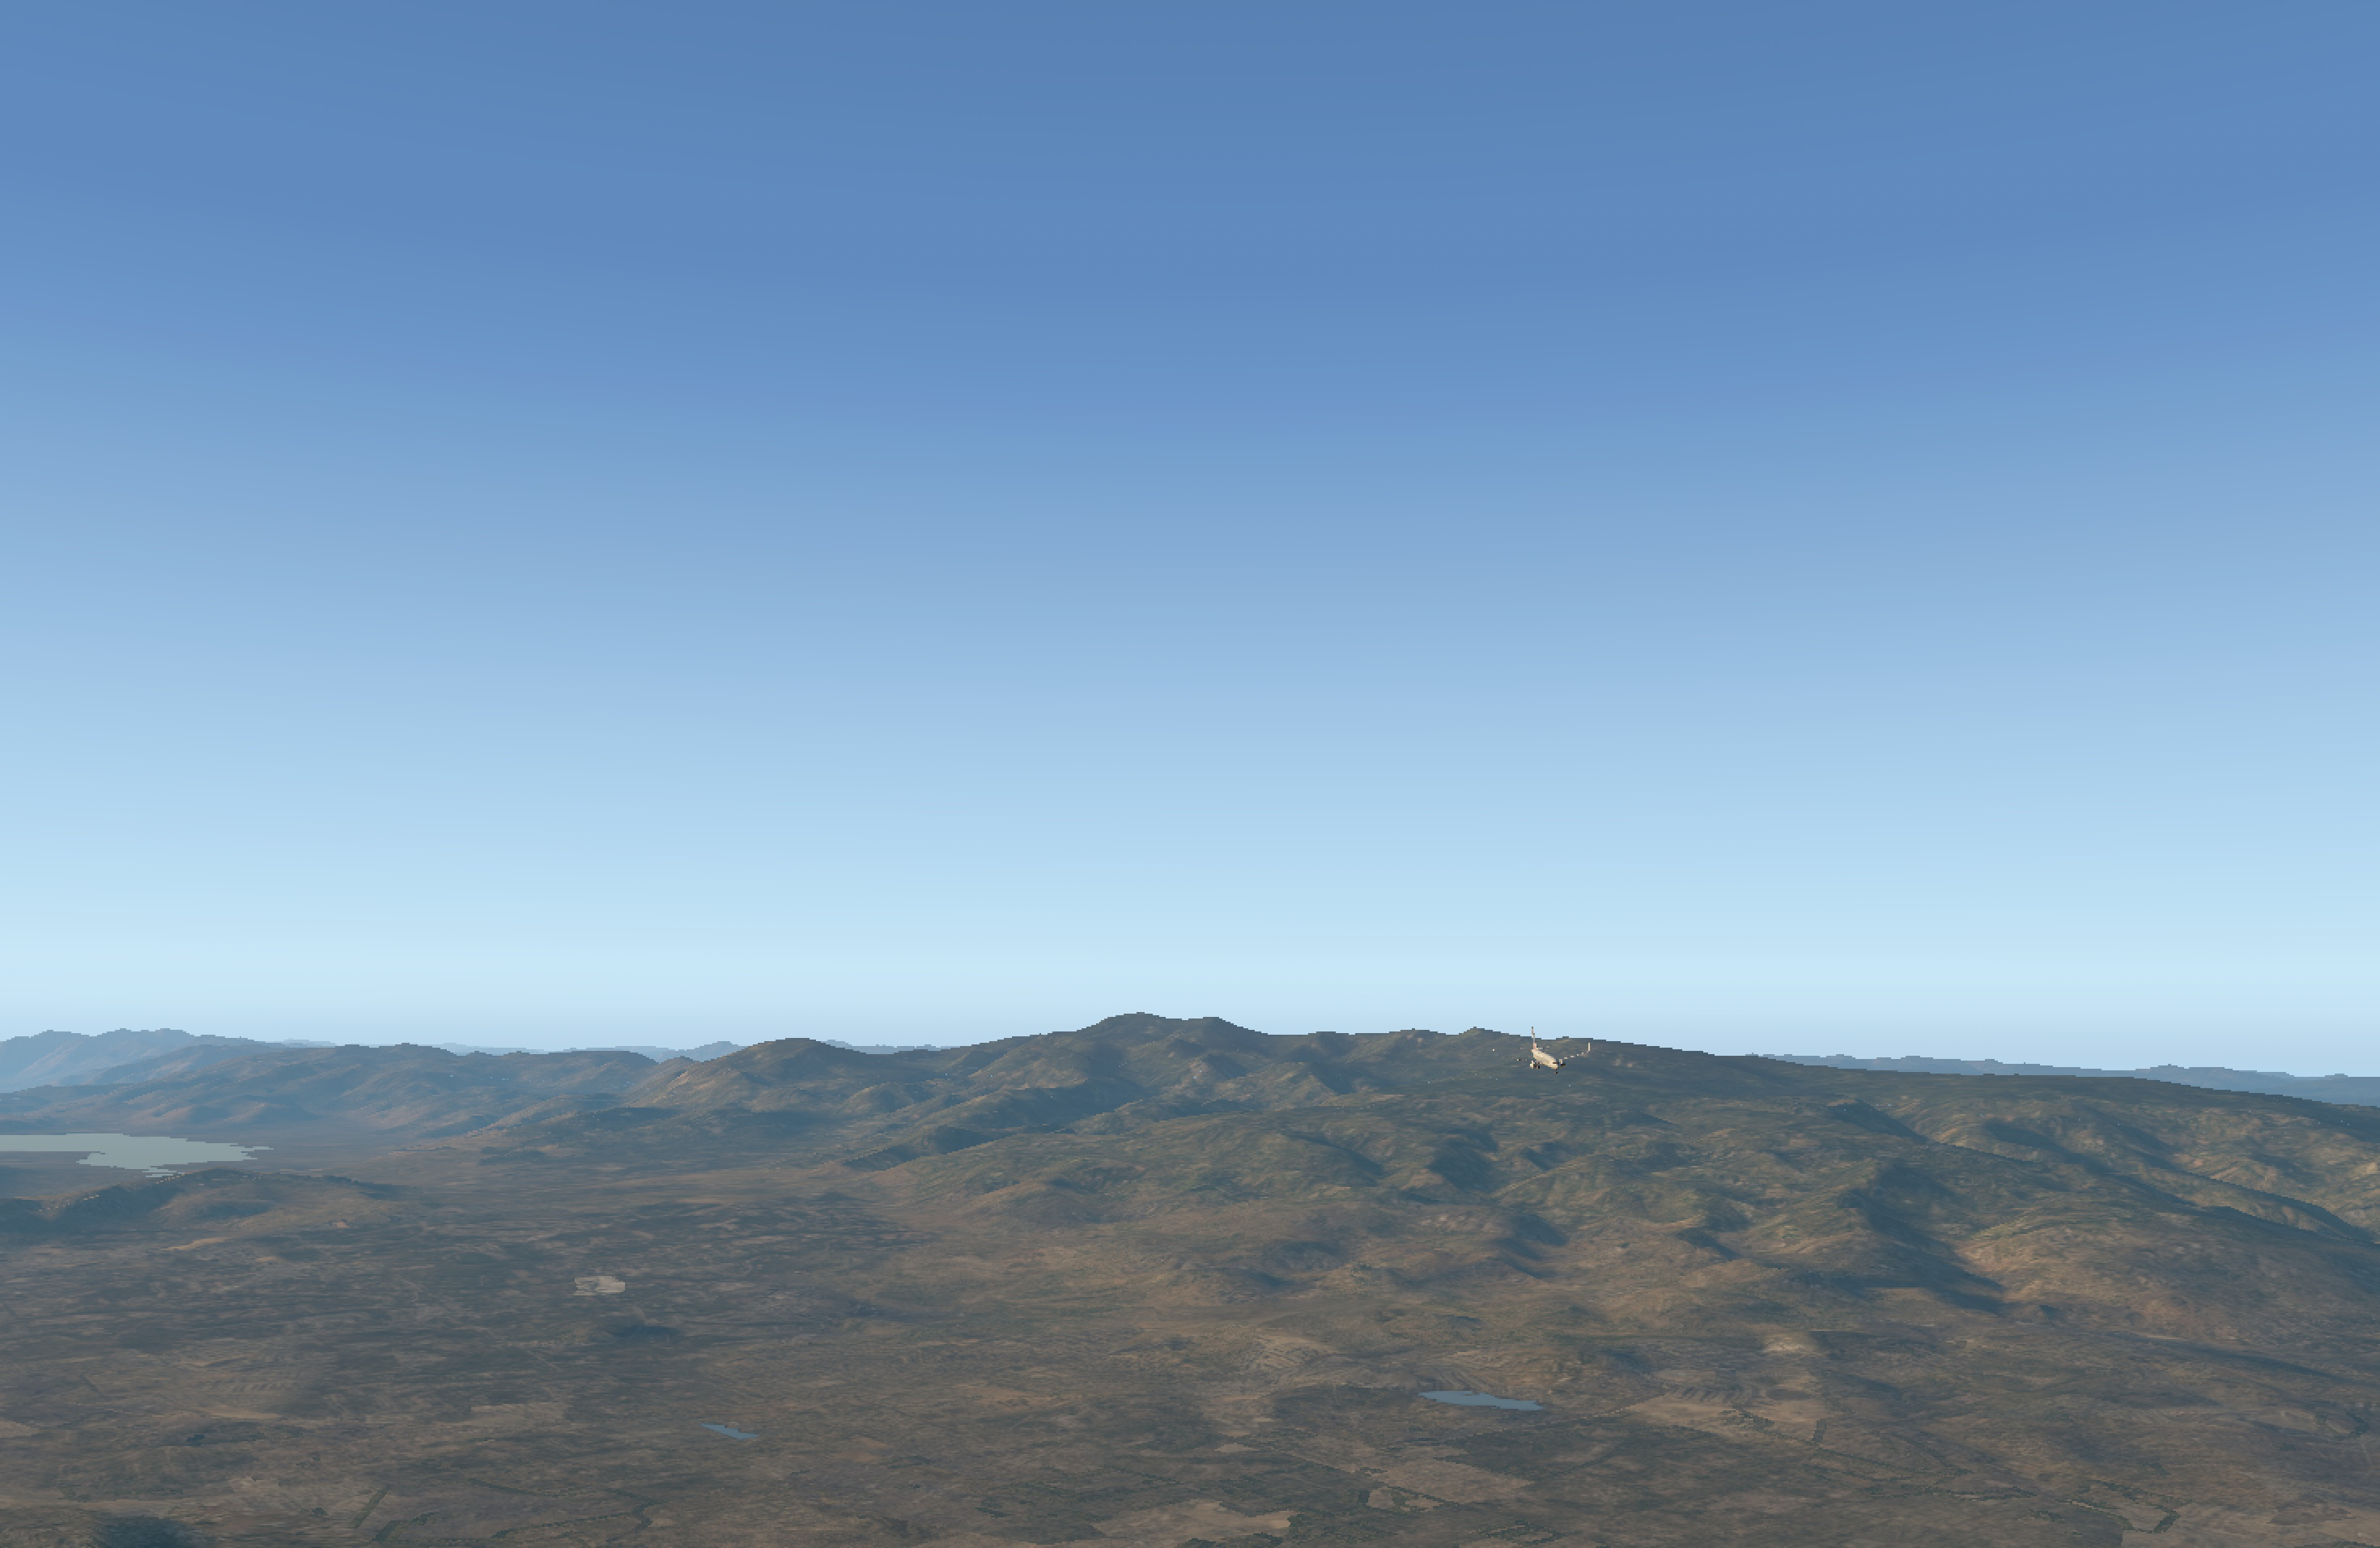aircraft: (1492, 1041, 1601, 1081)
